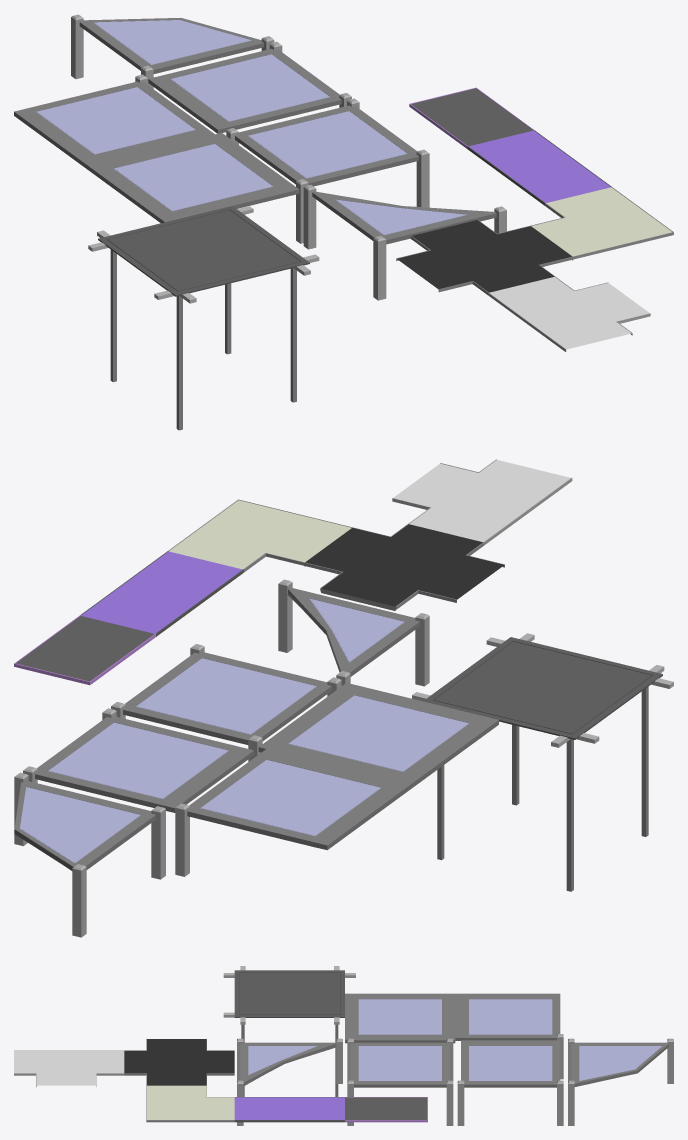
File: Map 1.fbx
The picture shows the model from 3 angles, top to bottom: view 1: azimuth 30°, elevation 25°; view 2: azimuth 150°, elevation 25°; view 3: azimuth 270°, elevation 25°; orthographic projection. The views are drawn at different scales.
Visible parts, largest first — view 1: Cube, Cube.004, Cube.001, Cube.002, Cube.003, Plane.005, Cube.006, Plane, Cube.005, Plane.004, Plane.003, Plane.002; view 2: Cube, Cube.003, Cube.004, Cube.002, Cube.001, Plane.005, Cube.006, Plane, Cube.005, Plane.004, Plane.003, Plane.002; view 3: Cube, Cube.004, Cube.002, Cube.001, Cube.003, Plane.005, Cube.006, Plane, Plane.004, Plane.003, Cube.005, Plane.002.
Boxes of the visible parts, x1,y1,x2,y2 form: Cube: (88,206,319,430); Cube.004: (87,133,299,223); Cube.001: (226,98,429,243); Cube.002: (148,41,351,133); Cube.003: (14,74,214,169); Plane.005: (396,219,573,294); Cube.006: (71,14,274,88); Plane: (488,276,650,351); Cube.005: (303,185,506,300); Plane.004: (531,187,673,260); Plane.003: (467,130,611,205); Plane.002: (409,87,533,148); Cube: (412,633,673,891); Cube.003: (175,749,410,876); Cube.004: (258,683,498,788); Cube.002: (23,708,254,812); Cube.001: (111,644,341,761); Plane.005: (304,523,504,610); Cube.006: (14,772,165,937); Plane: (392,459,572,544); Cube.005: (278,579,429,686); Plane.004: (168,499,352,572); Plane.003: (80,551,243,636); Plane.002: (14,615,155,685); Cube: (223,966,355,1096); Cube.004: (345,993,455,1043); Cube.002: (457,1040,563,1125); Cube.001: (347,1038,453,1125); Cube.003: (455,993,563,1079); Plane.005: (124,1038,234,1085); Cube.006: (568,1038,673,1125); Plane: (14,1050,124,1087); Plane.004: (146,1085,234,1122); Plane.003: (234,1097,344,1122); Cube.005: (237,1038,342,1125); Plane.002: (345,1097,427,1122).
Bounding box in the file's own units: 670 × 206 × 1196.
